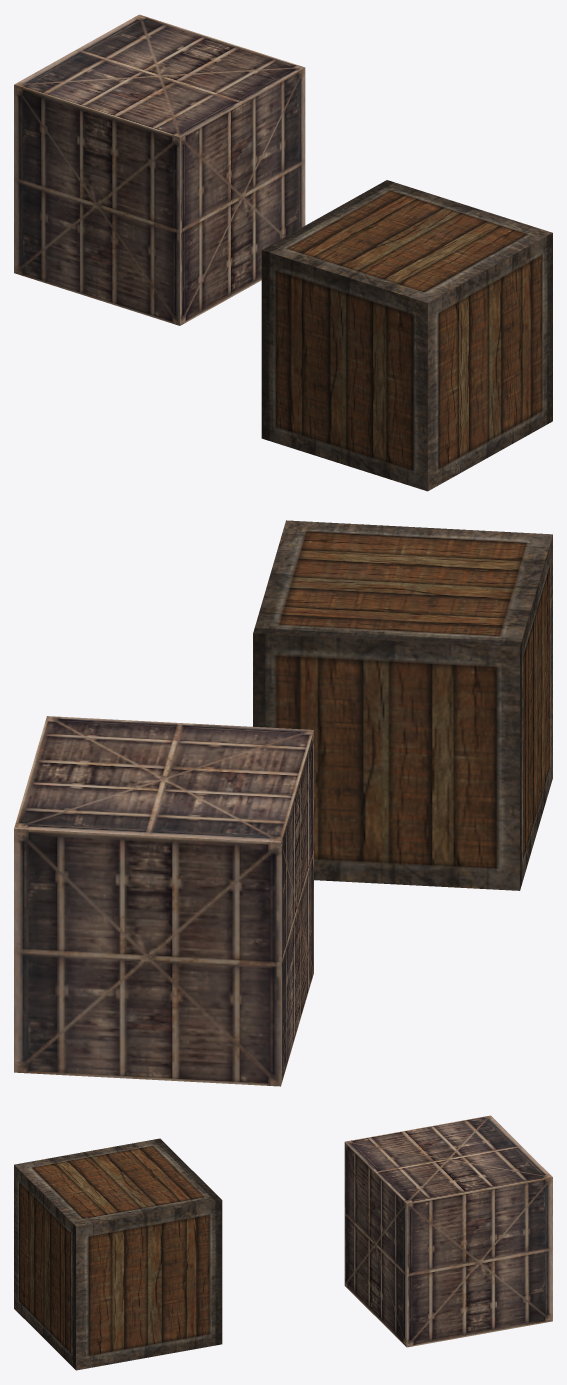
The model's file is bloques_triang_v3.obj.
The picture shows the model from 3 angles, top to bottom: view 1: azimuth 30°, elevation 25°; view 2: azimuth 150°, elevation 25°; view 3: azimuth 270°, elevation 25°; orthographic projection. The views are drawn at different scales.
Visible parts, largest first — view 1: Box003.001, Box003.000; view 2: Box003.000, Box003.001; view 3: Box003.001, Box003.000.
Part boxes in pixels (bbox=[...]): Box003.001: bbox=[261, 180, 552, 491]; Box003.000: bbox=[14, 14, 305, 325]; Box003.000: bbox=[14, 716, 313, 1086]; Box003.001: bbox=[253, 520, 552, 890]; Box003.001: bbox=[14, 1138, 222, 1370]; Box003.000: bbox=[344, 1115, 552, 1347].
Size of what is drawn, in the model's own units: 29.71 by 21.56 by 67.82.
Materials: 2 (2 with a texture image).
